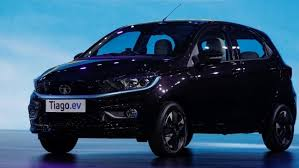Tiago: (26, 16, 298, 162)
